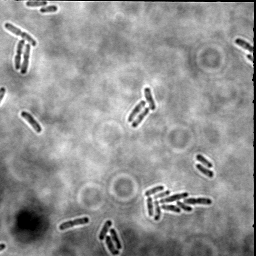Dividing: (3, 21, 37, 47), (57, 215, 90, 232), (12, 39, 25, 70), (19, 42, 31, 75)
Microcolony: (144, 184, 214, 222)
Rod: (19, 110, 42, 134), (127, 99, 145, 124), (131, 106, 150, 128), (142, 86, 157, 112), (97, 219, 114, 241), (108, 227, 123, 250), (194, 163, 214, 179), (104, 235, 119, 256), (195, 153, 214, 169), (39, 4, 59, 15), (25, 1, 48, 8)
